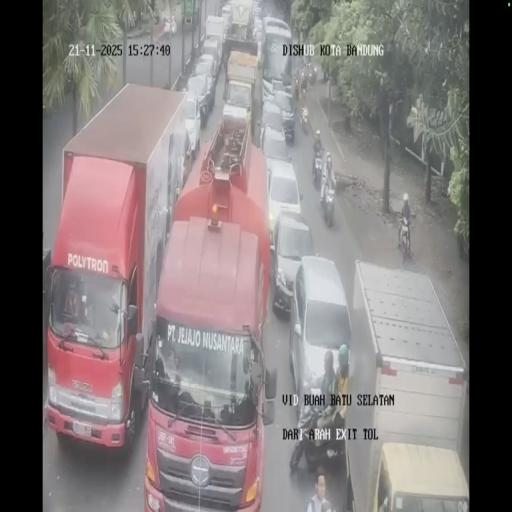car: (271, 208, 313, 316), (262, 88, 295, 145), (185, 71, 214, 130), (222, 83, 253, 137), (199, 39, 221, 78), (263, 16, 291, 44), (252, 14, 264, 46), (220, 3, 232, 33)
motorcycle: (321, 176, 336, 226), (398, 214, 412, 262), (312, 148, 324, 188), (298, 100, 308, 134), (299, 70, 309, 92), (308, 64, 316, 86)
truck: (46, 83, 194, 455), (342, 260, 466, 512)
